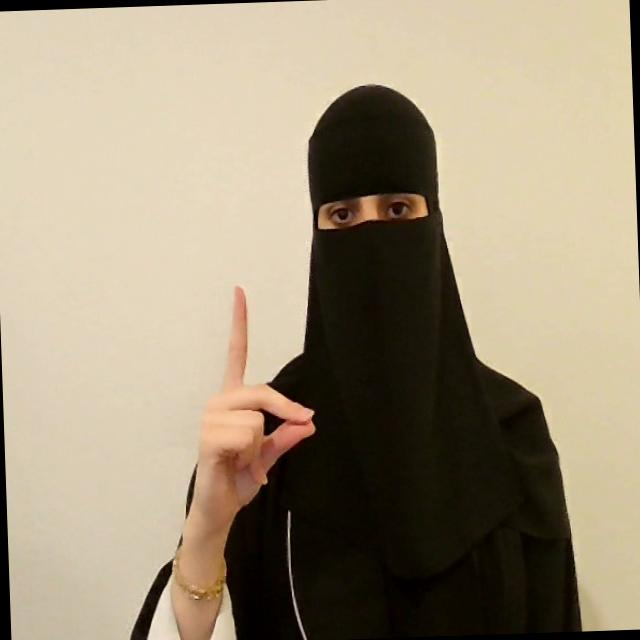emergency: (181, 282, 319, 532)
